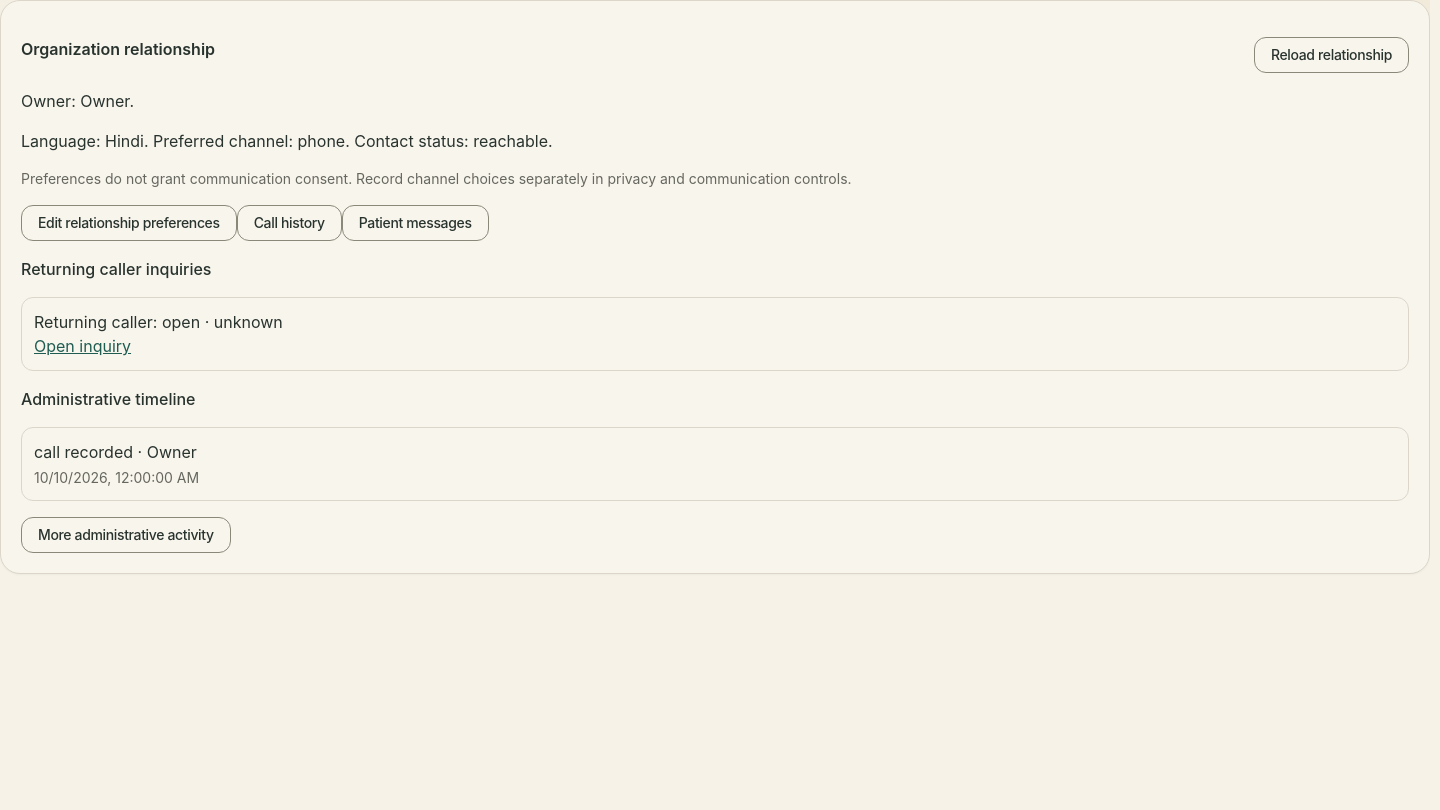
Test case: Patient relationship panel › pages only the selected timeline resource and does not reset the loaded inquiry list
Click the button "More administrative activity".
click(126, 535)  # box [21,517,231,553]
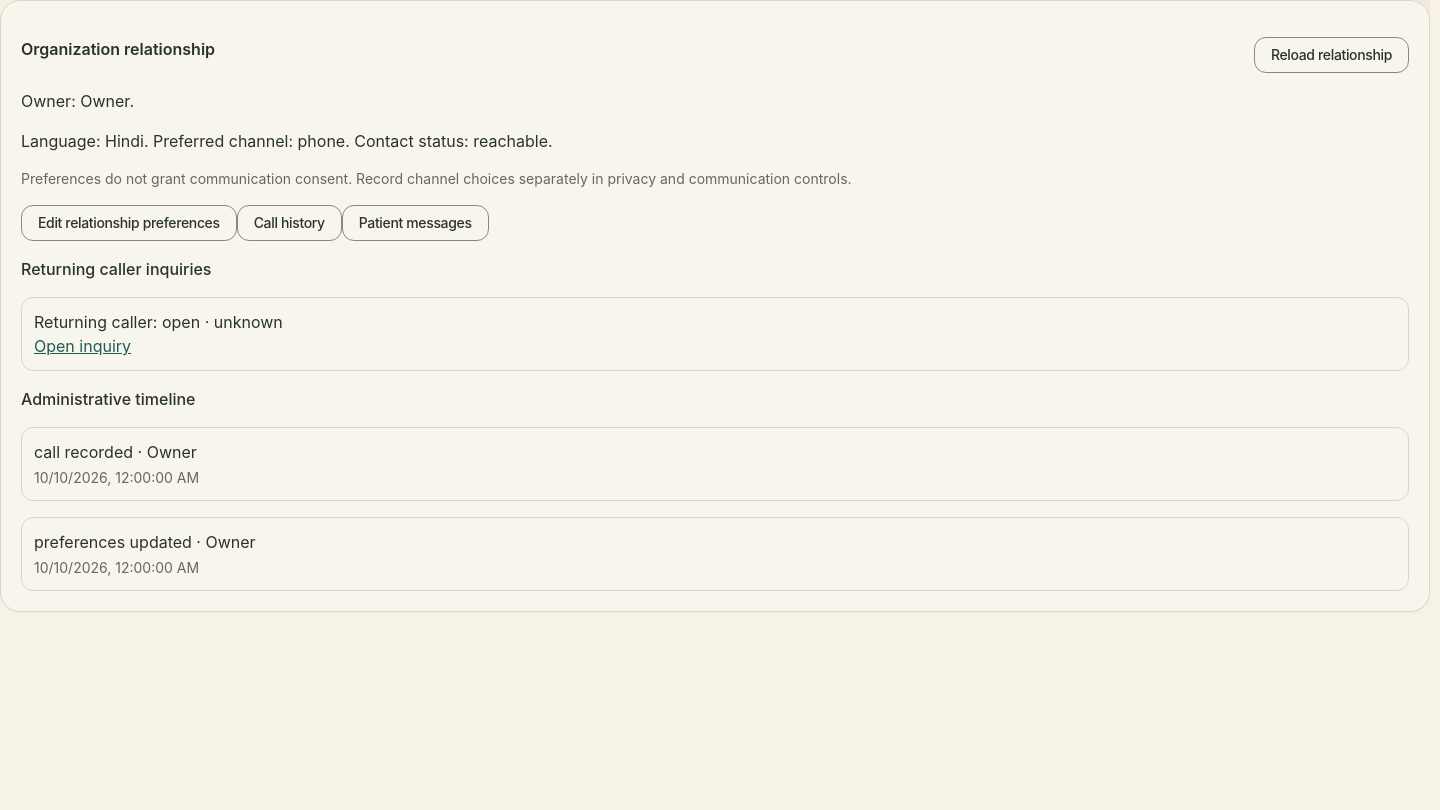
Check: the text "Returning caller: open · unknown" is shown, box [34,312,283,332]
Check: the text "preferences updated · Owner" is shown, box [34,532,256,552]
